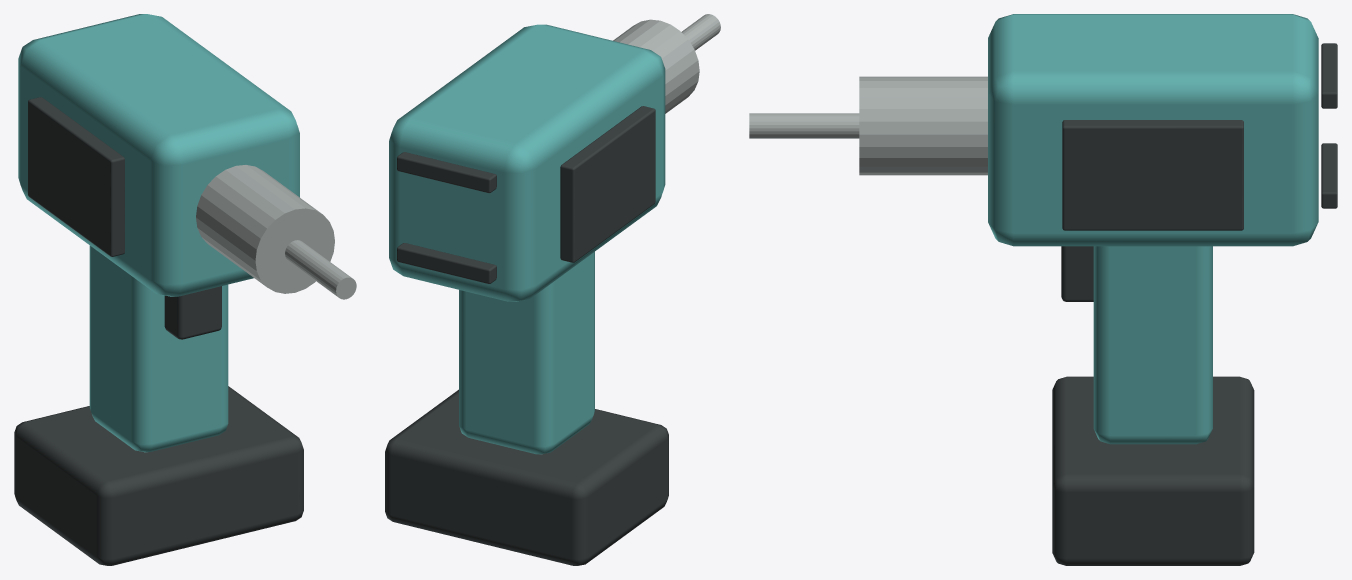
The model's file is indoor-climbing-and-bouldering-gym-indoor-climbing-and-36a5538e__31541.glb.
3 views of the same model, side by side, from view 1: azimuth 30°, elevation 25°; view 2: azimuth 150°, elevation 25°; view 3: azimuth 270°, elevation 25° (orthographic). The views are drawn at different scales.
Parts seen in each view (by area): view 1: indoor-climbing-and-bouldering-gym-cordless-impact-driver; view 2: indoor-climbing-and-bouldering-gym-cordless-impact-driver; view 3: indoor-climbing-and-bouldering-gym-cordless-impact-driver.
Boxes of the visible parts, x1=… form: indoor-climbing-and-bouldering-gym-cordless-impact-driver: x1=14, y1=14, x2=356, y2=565; indoor-climbing-and-bouldering-gym-cordless-impact-driver: x1=385, y1=14, x2=720, y2=565; indoor-climbing-and-bouldering-gym-cordless-impact-driver: x1=749, y1=14, x2=1337, y2=565.
Bounding box in the file's own units: 0.14 × 0.285 × 0.3205.
